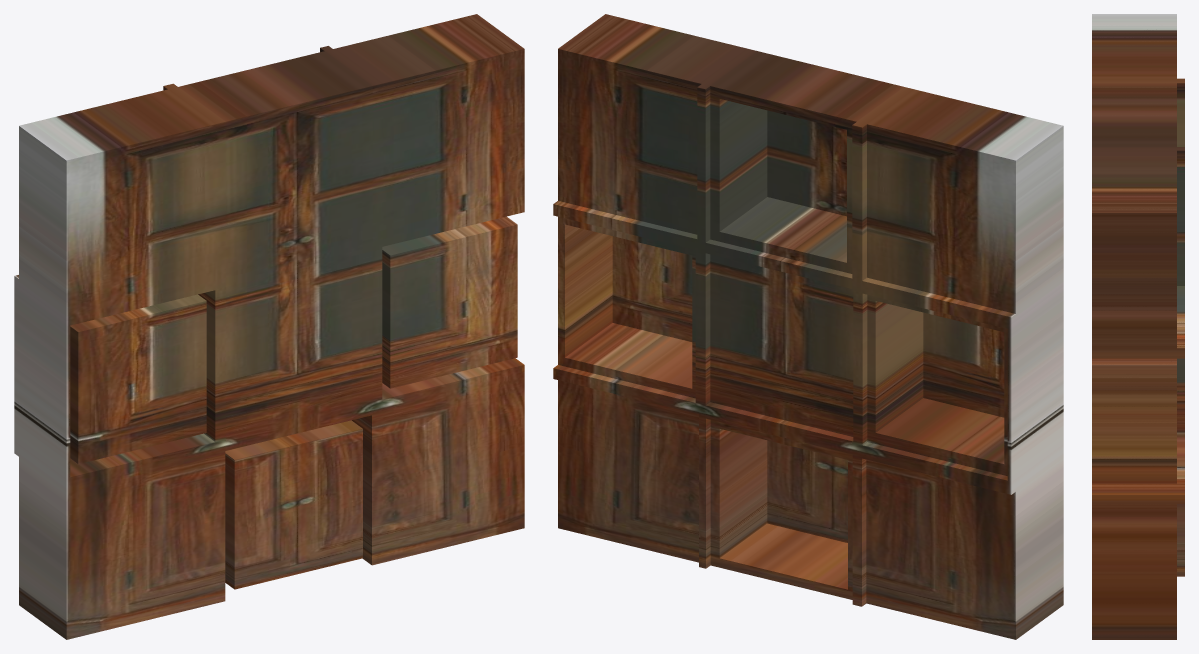
The picture shows the model from 3 angles, left to right: view 1: azimuth 30°, elevation 25°; view 2: azimuth 150°, elevation 25°; view 3: azimuth 270°, elevation 25°; orthographic projection. The views are drawn at different scales.
Parts seen in each view (by area): view 1: mesh2_mesh2-geometry, mesh1_mesh1-geometry, mesh3_mesh3-geometry, mesh6_mesh6-geometry, mesh4_mesh4-geometry, mesh5_mesh5-geometry, mesh8_mesh8-geometry, mesh10_mesh10-geometry, mesh11_mesh11-geometry, mesh9_mesh9-geometry, mesh7_mesh7-geometry; view 2: mesh1_mesh1-geometry, mesh2_mesh2-geometry, mesh3_mesh3-geometry, mesh6_mesh6-geometry, mesh7_mesh7-geometry, mesh4_mesh4-geometry, mesh5_mesh5-geometry, mesh10_mesh10-geometry, mesh11_mesh11-geometry, mesh8_mesh8-geometry, mesh9_mesh9-geometry; view 3: mesh6_mesh6-geometry, mesh5_mesh5-geometry, mesh8_mesh8-geometry, mesh1_mesh1-geometry, mesh2_mesh2-geometry, mesh7_mesh7-geometry.
Boxes of the visible parts, left/top/right/bottom form: mesh2_mesh2-geometry: left=19, top=89, right=215, bottom=313; mesh1_mesh1-geometry: left=14, top=46, right=524, bottom=603; mesh3_mesh3-geometry: left=19, top=455, right=215, bottom=639; mesh6_mesh6-geometry: left=333, top=14, right=524, bottom=235; mesh4_mesh4-geometry: left=224, top=250, right=372, bottom=437; mesh5_mesh5-geometry: left=379, top=375, right=524, bottom=563; mesh8_mesh8-geometry: left=382, top=216, right=517, bottom=388; mesh10_mesh10-geometry: left=225, top=420, right=362, bottom=589; mesh11_mesh11-geometry: left=70, top=294, right=206, bottom=463; mesh9_mesh9-geometry: left=235, top=99, right=362, bottom=262; mesh7_mesh7-geometry: left=178, top=51, right=372, bottom=274; mesh1_mesh1-geometry: left=553, top=49, right=1063, bottom=606; mesh2_mesh2-geometry: left=867, top=89, right=1063, bottom=313; mesh3_mesh3-geometry: left=866, top=457, right=1063, bottom=639; mesh6_mesh6-geometry: left=558, top=14, right=748, bottom=234; mesh7_mesh7-geometry: left=710, top=51, right=903, bottom=273; mesh4_mesh4-geometry: left=710, top=254, right=853, bottom=436; mesh5_mesh5-geometry: left=558, top=380, right=698, bottom=562; mesh10_mesh10-geometry: left=710, top=420, right=852, bottom=599; mesh11_mesh11-geometry: left=867, top=294, right=1007, bottom=475; mesh8_mesh8-geometry: left=558, top=216, right=695, bottom=398; mesh9_mesh9-geometry: left=767, top=110, right=846, bottom=216; mesh6_mesh6-geometry: left=1092, top=150, right=1176, bottom=348; mesh5_mesh5-geometry: left=1092, top=504, right=1176, bottom=639; mesh8_mesh8-geometry: left=1092, top=358, right=1176, bottom=483; mesh1_mesh1-geometry: left=1092, top=78, right=1184, bottom=576; mesh2_mesh2-geometry: left=1092, top=14, right=1176, bottom=78; mesh7_mesh7-geometry: left=1092, top=83, right=1176, bottom=146.
Bounding box in the file's own units: 0.7003 × 0.7003 × 0.1382.
